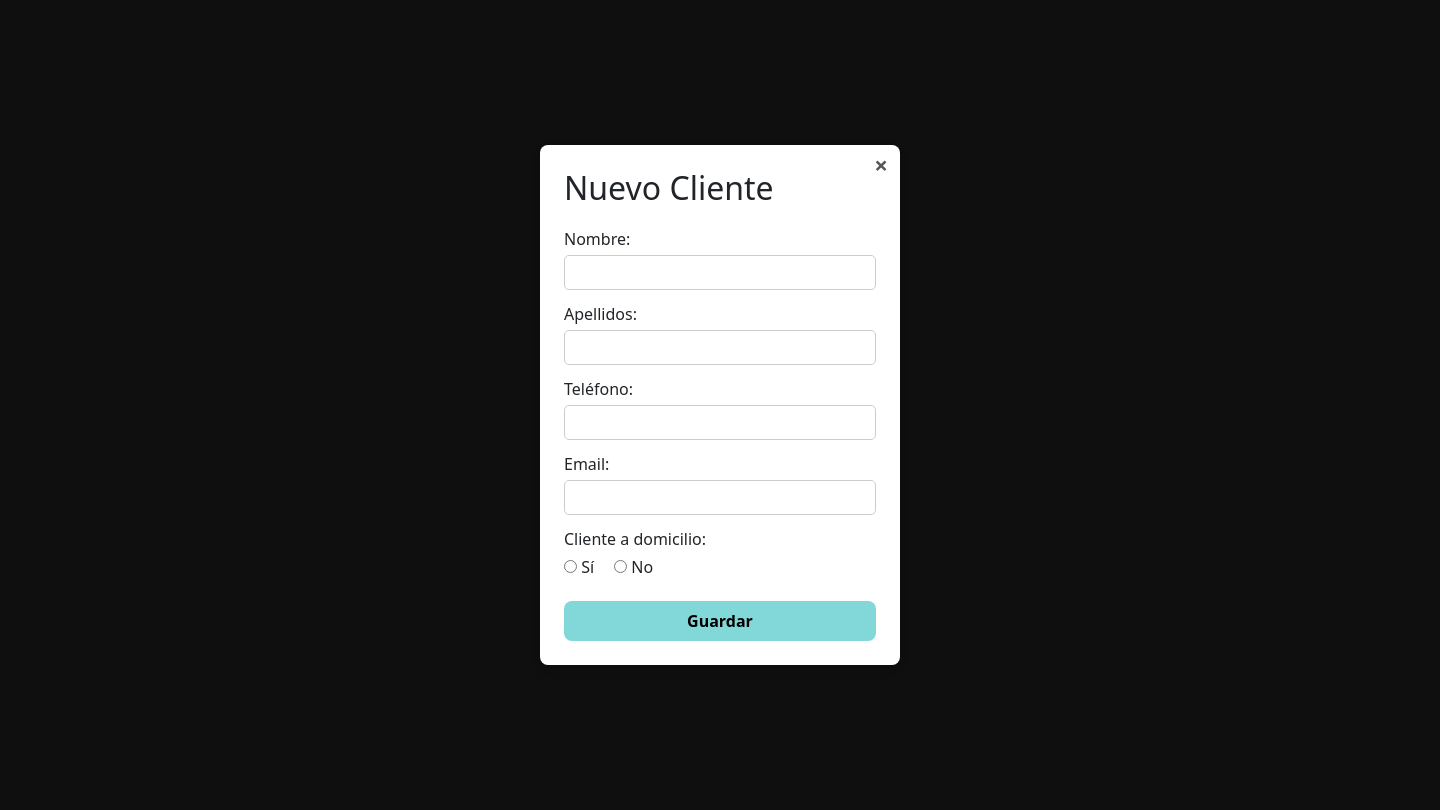
Test: ModalNuevoCliente › muestra error si nombre está vacío al guardar
Click the button with class "guardar-btn" at (720, 621), box left=564, top=601, right=876, bottom=641
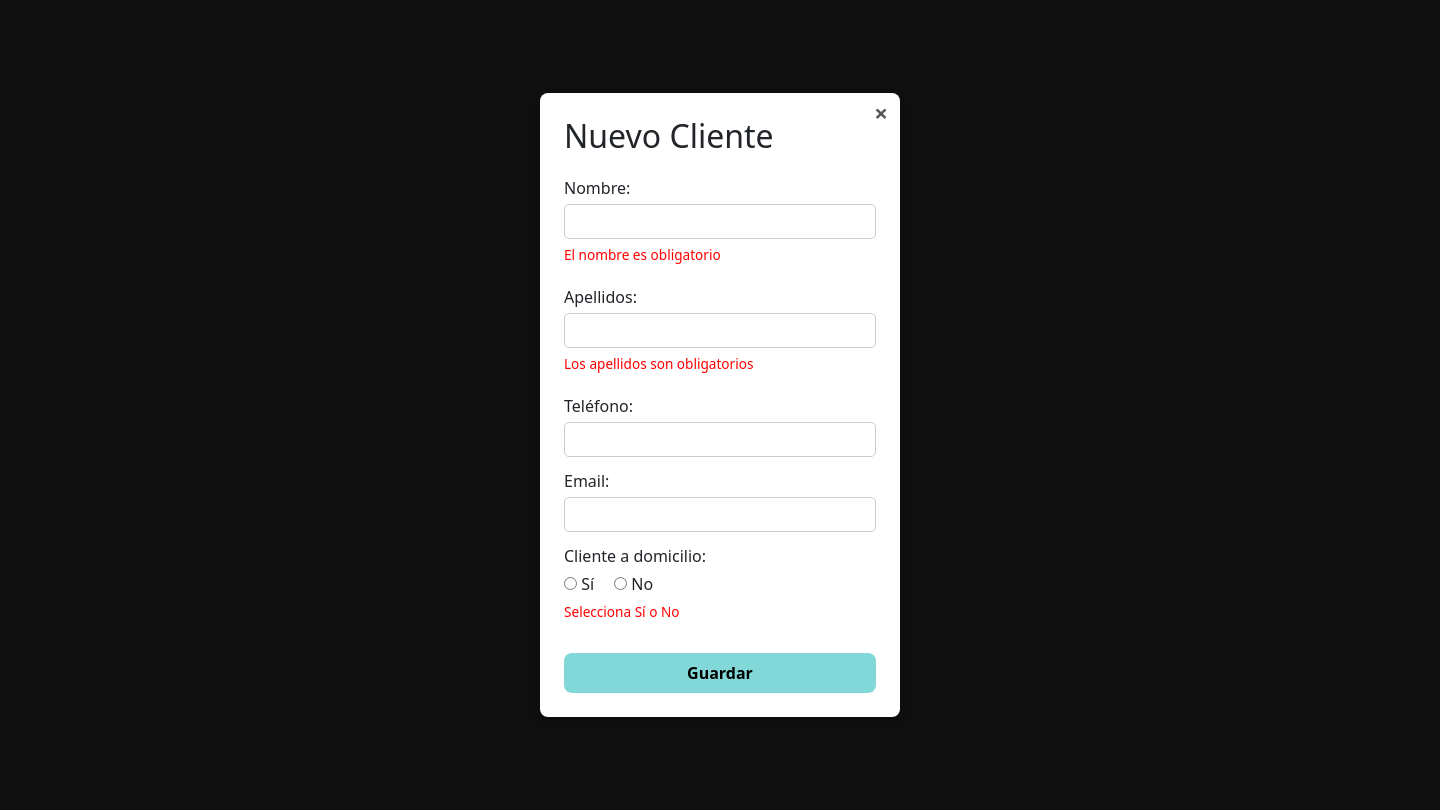
Expected: the text "El nombre es obligatorio" is shown, left=564, top=245, right=721, bottom=264
